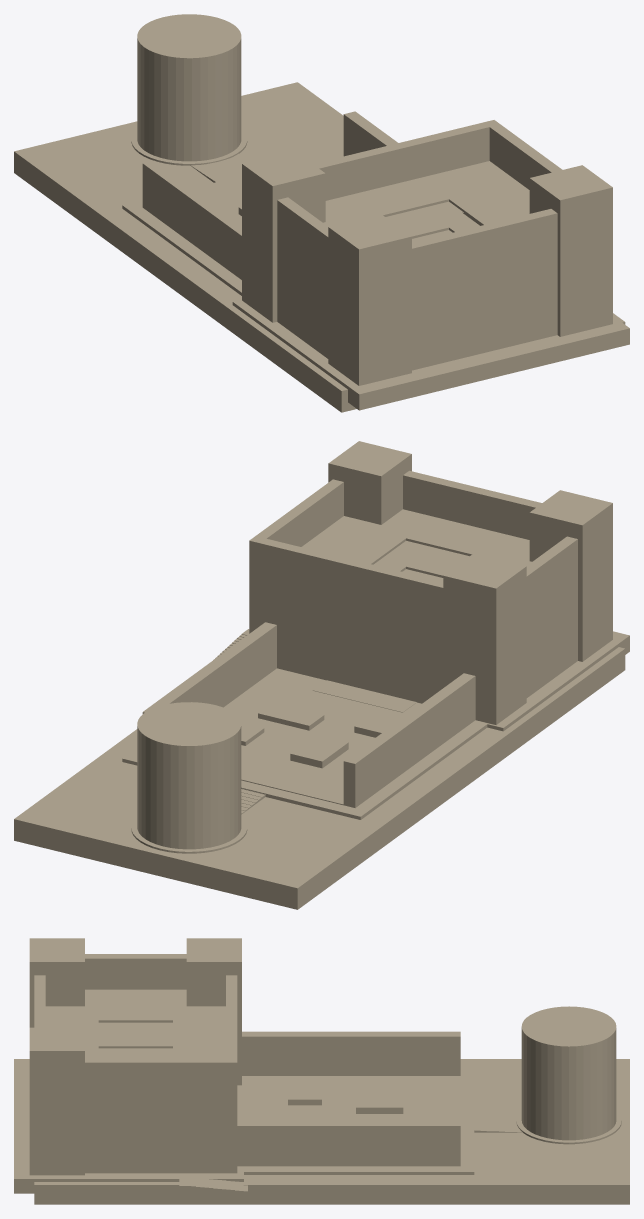
Rendered from castle.glb.
3 views of the same model, one above another, from view 1: azimuth 30°, elevation 25°; view 2: azimuth 150°, elevation 25°; view 3: azimuth 270°, elevation 25° (orthographic). The views are drawn at different scales.
Visible parts, largest first — view 1: world; view 2: world; view 3: world.
Boxes of the visible parts, x1,y1,x2,y2 form: world: (14,14,629,412); world: (14,441,629,909); world: (14,938,629,1204).
Size of the model in its own units: 46.1 by 23.95 by 91.
